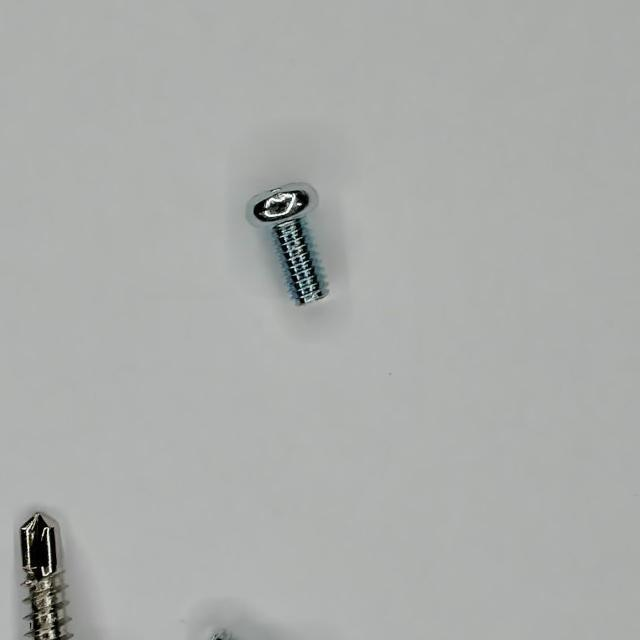Screw: (248, 183, 329, 304), (20, 514, 72, 640)
